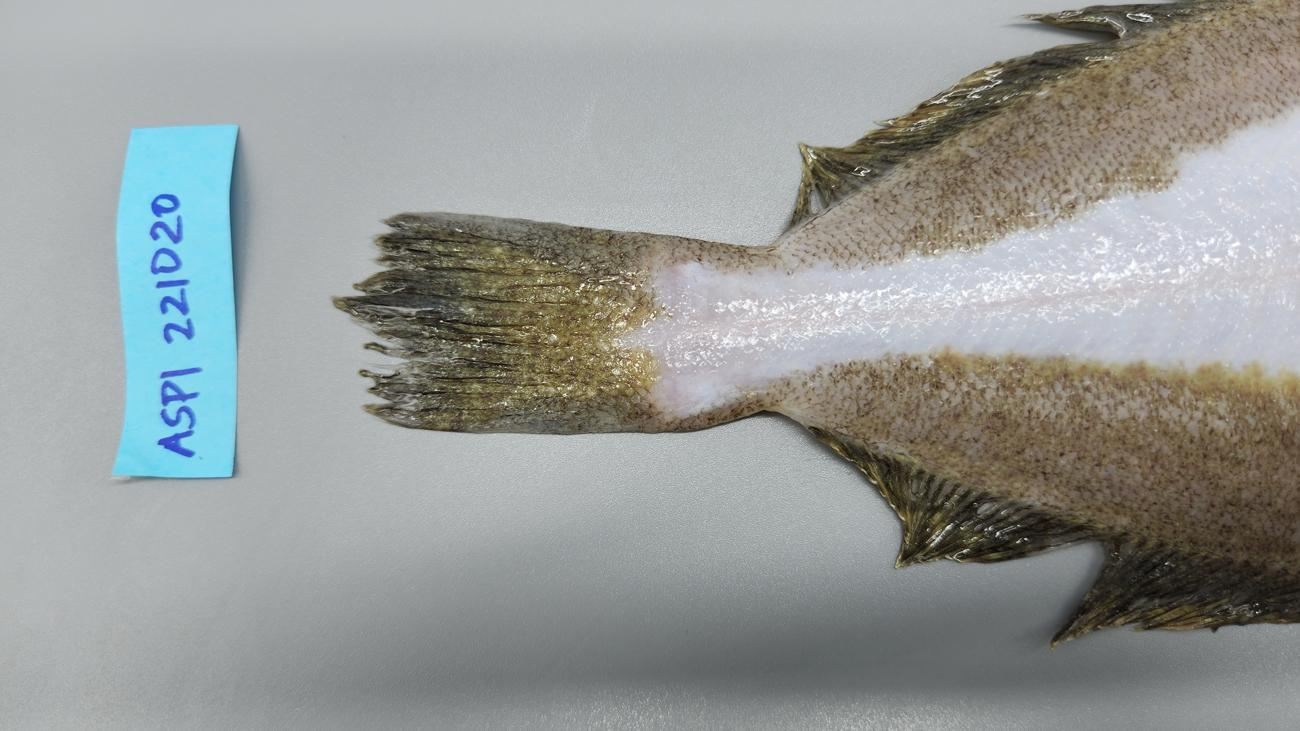SPDYH: (632, 0, 1299, 560)
